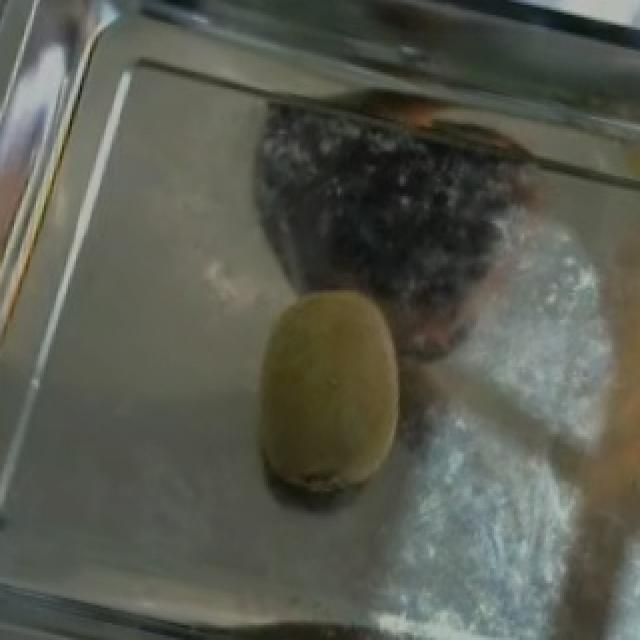Fruit: (220, 253, 442, 528), (574, 156, 640, 452)
